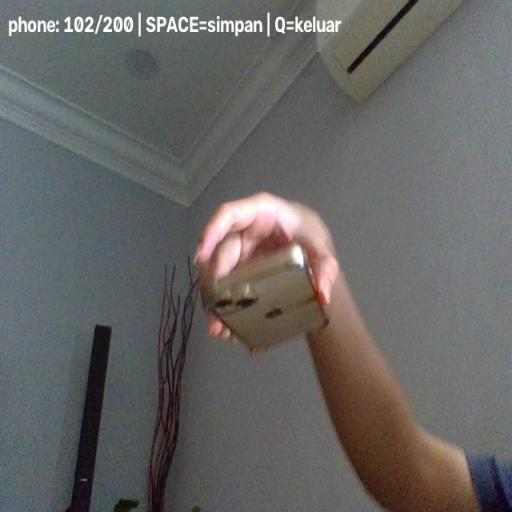Phone: (202, 243, 328, 352)
